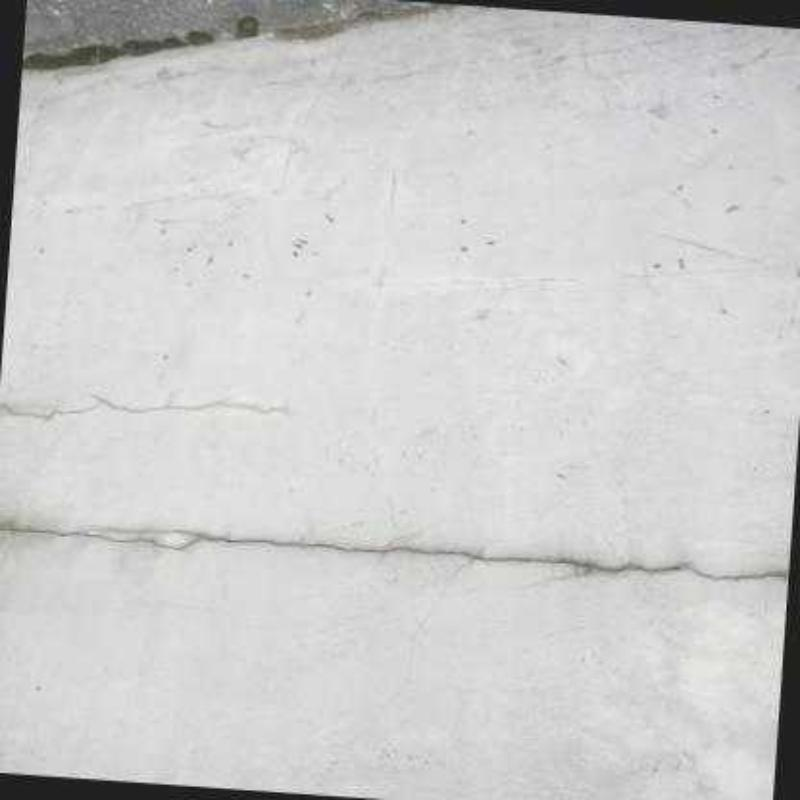pothole: (0, 524, 789, 582), (0, 387, 294, 421), (87, 525, 196, 535)
